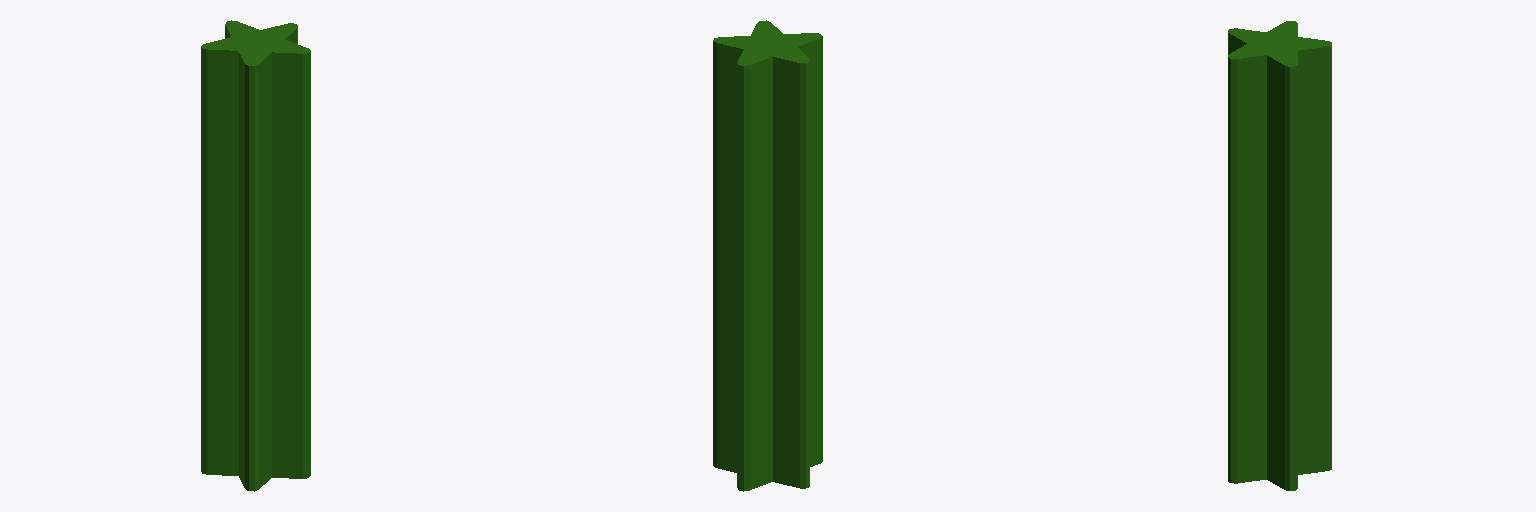
robot.urdf — Small_Long_Star_Green:
<?xml version="1.0"?>
<robot name="Small_Long_Star_Green">
    <link name="Small_Long_Star_Green">
        <visual>
            <geometry>
                <mesh filename="../mesh/factory_insertion/Small_Long_Star_Green.obj" scale="0.001 0.001 0.001"/>
            </geometry>
            <material name="Green">
              <color rgba="0.21 0.46 0.11 0.0"/>
            </material>
        </visual>
        <collision>
            <geometry>
                <mesh filename="../mesh/factory_insertion/Small_Long_Star_Green.obj" scale="0.001 0.001 0.001"/>
            </geometry>
            <sdf resolution="512"/>
        </collision>
    </link>
</robot>

--- Facts derived from the render (not from the file) ---
Views: 3 orthographic renders of the robot side by side, from view 1: azimuth 30°, elevation 25°; view 2: azimuth 150°, elevation 25°; view 3: azimuth 270°, elevation 25°.
Robot: Small_Long_Star_Green — 1 links, 0 joints (none); root link Small_Long_Star_Green; default pose: every joint at zero.
Links seen in each view (by area): view 1: Small_Long_Star_Green; view 2: Small_Long_Star_Green; view 3: Small_Long_Star_Green.
Link boxes in pixels (<box>): Small_Long_Star_Green: <box>201,20,310,491</box>; Small_Long_Star_Green: <box>713,20,822,491</box>; Small_Long_Star_Green: <box>1228,21,1331,490</box>.
Bounding box of the posed robot: 0.0353 × 0.0336 × 0.15 m (x, y, z).
1 mesh visuals loaded from 1 distinct referenced files (1 OBJ).
